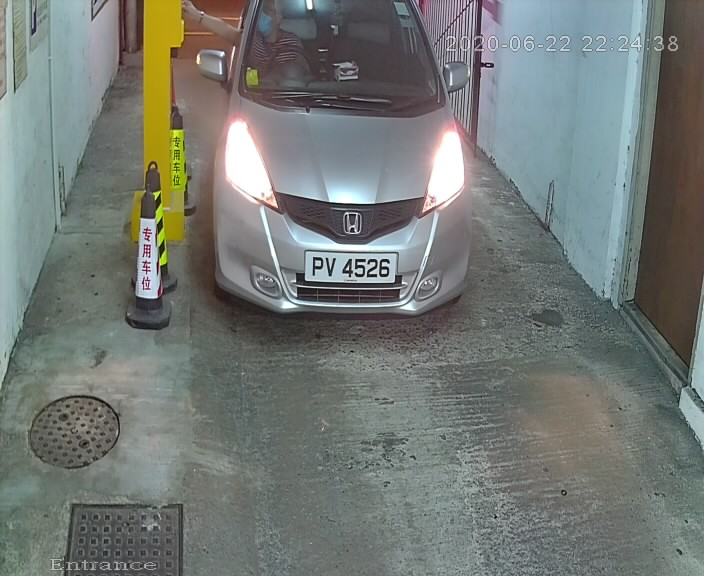privatecar: (189, 2, 486, 337)
